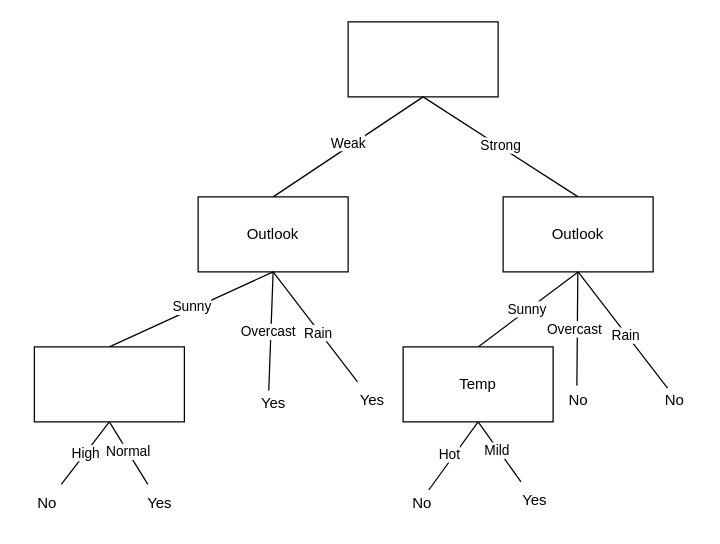
The diagram is 720 pixels wide and 544 high, and some of its shapes have lost their labels. The shapes that lost their labels are listed below. From the top down, each one's centre as x and y in pixels, then its label:
At (x=422, y=59): "Wind".
At (x=108, y=384): "Humidity".
